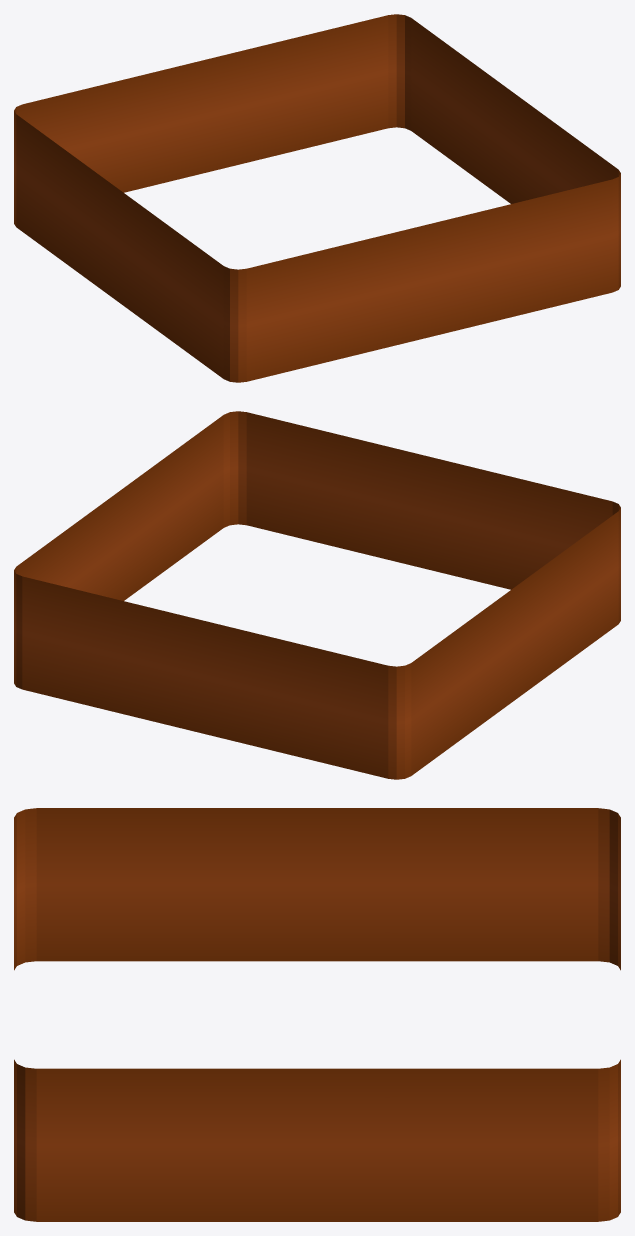
Rendered from grass_hill_001.fbx.
3 views of the same model, one above another, from view 1: azimuth 30°, elevation 25°; view 2: azimuth 150°, elevation 25°; view 3: azimuth 270°, elevation 25° (orthographic). The views are drawn at different scales.
Visible parts, largest first — view 1: grass_hill.001; view 2: grass_hill.001; view 3: grass_hill.001.
Part boxes in pixels (x1,y1,x2,y2): grass_hill.001: (14,14,620,382); grass_hill.001: (14,411,620,779); grass_hill.001: (14,808,620,1221).
Size of the model in its own units: 383 by 105 by 377.
